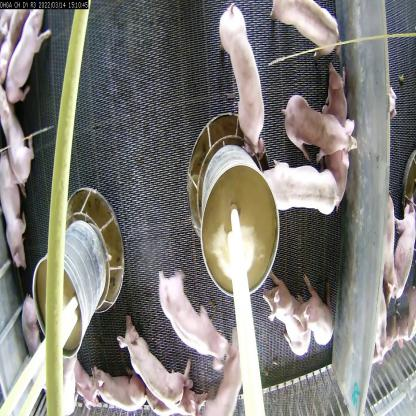Pig: (153, 254, 235, 369), (217, 0, 267, 163), (280, 82, 359, 166), (260, 150, 342, 222), (119, 316, 185, 405), (0, 6, 53, 110), (195, 324, 252, 416), (261, 264, 313, 364), (265, 0, 341, 64), (318, 62, 347, 212), (90, 356, 148, 416), (0, 82, 34, 179), (0, 148, 29, 261), (144, 369, 210, 415), (300, 280, 338, 348), (392, 194, 415, 305), (51, 346, 85, 415), (64, 354, 100, 416), (23, 296, 47, 387), (383, 190, 397, 296)
